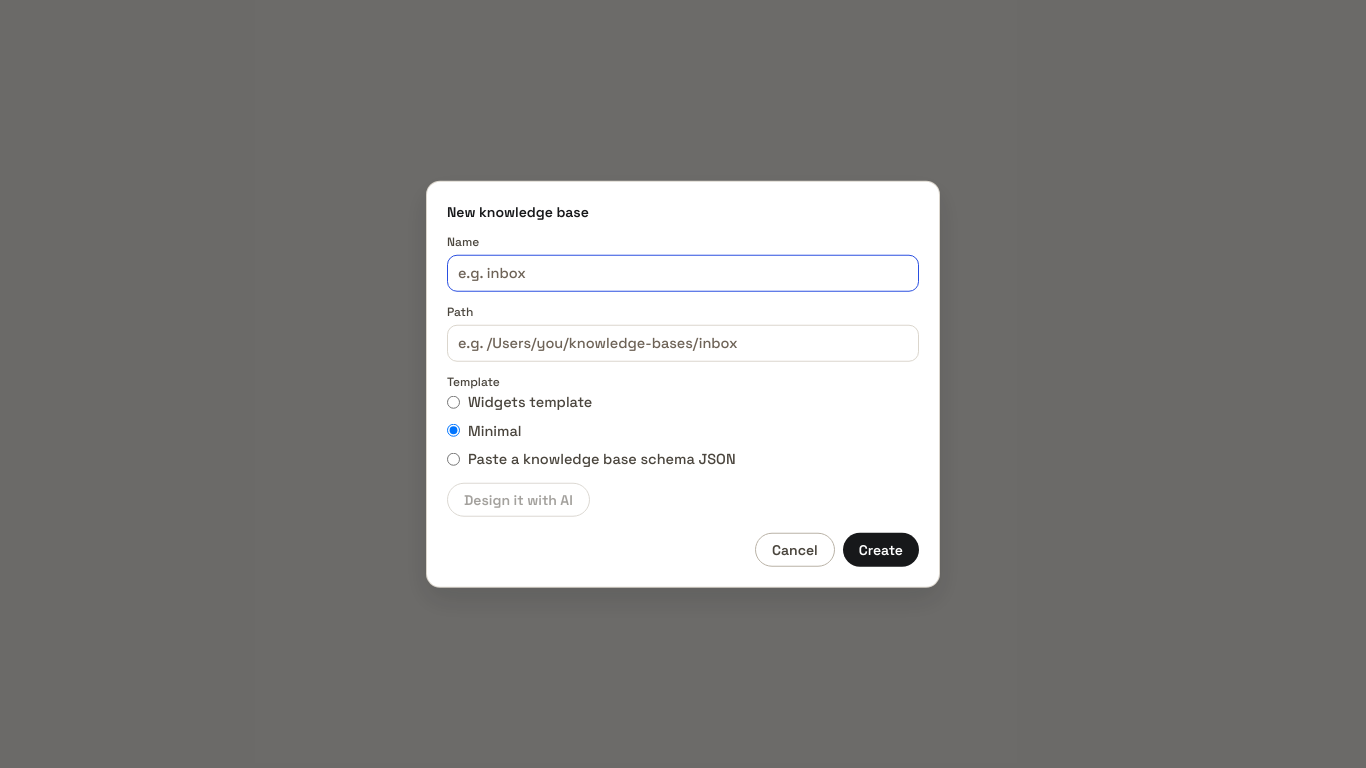
Scenario: CreateKnowledgeBaseDialog › refuses to submit without a name and path
Step 1. Click the button "Create" → {"x": 881, "y": 549}, box [843,532,919,566]
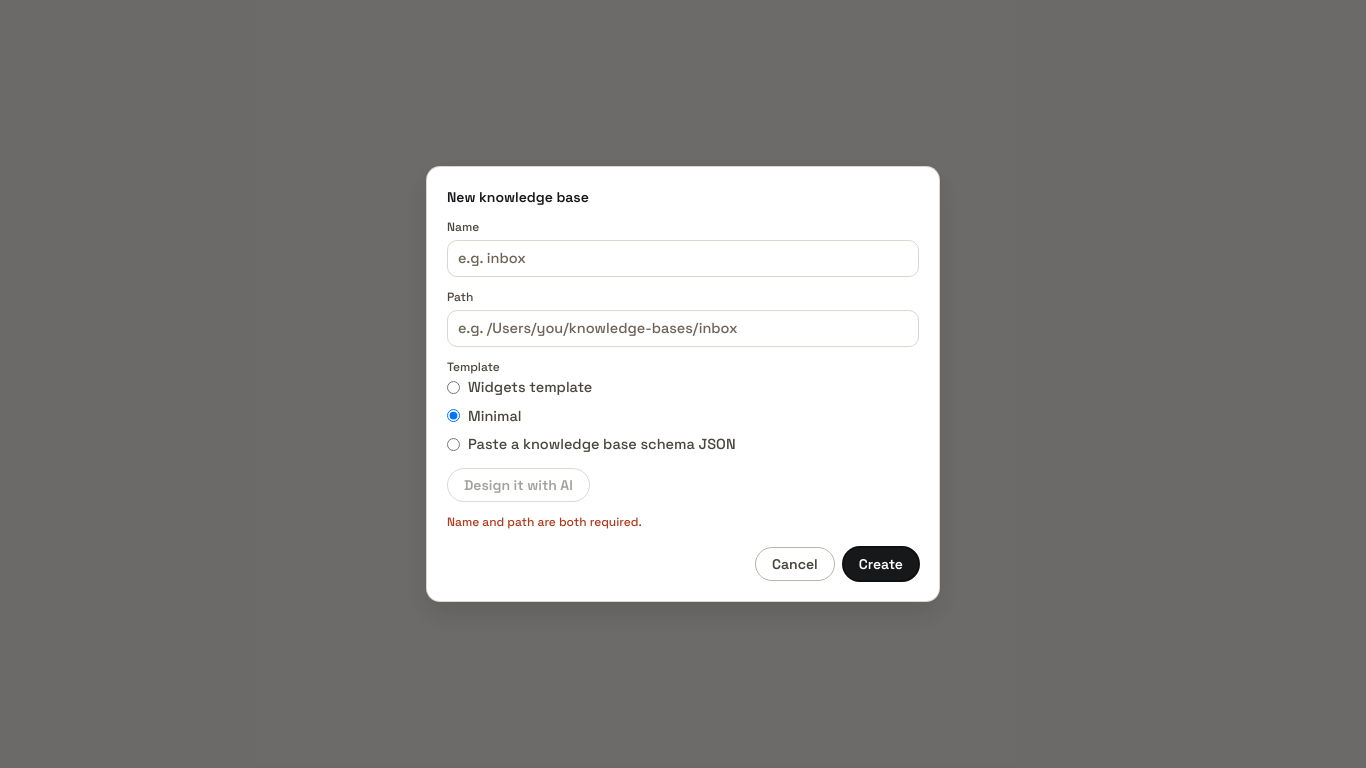
Expected: the message reads "Name and path are both required.", [447,514,642,530]
